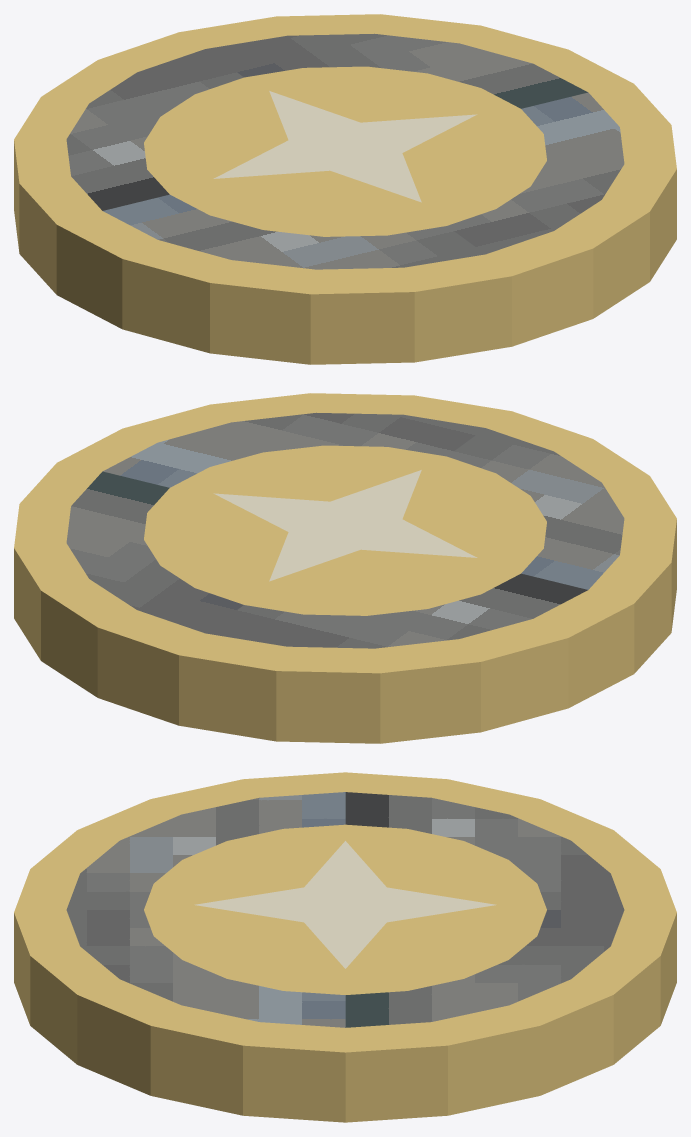
Rendered from moeda_chao.fbx.
The picture shows the model from 3 angles, top to bottom: view 1: azimuth 30°, elevation 25°; view 2: azimuth 150°, elevation 25°; view 3: azimuth 270°, elevation 25°; orthographic projection.
Visible parts, largest first — view 1: neve_moeda_chao; view 2: neve_moeda_chao; view 3: neve_moeda_chao.
Part boxes in pixels (left/top/right/bottom): neve_moeda_chao: left=14, top=14, right=676, bottom=364; neve_moeda_chao: left=14, top=393, right=676, bottom=743; neve_moeda_chao: left=14, top=772, right=676, bottom=1122.
Size of the model in its own units: 24 by 3.1 by 24.
Materials: 3 (1 with a texture image).
